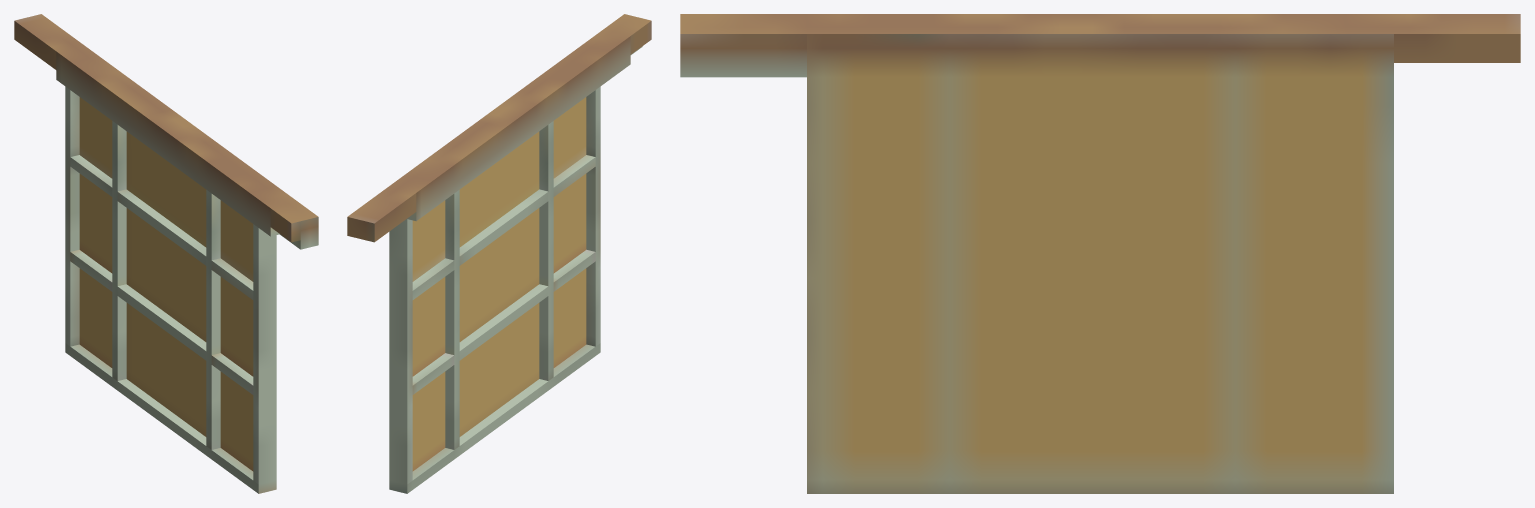
The model's file is WindowFrameLargeInside_A_01.fbx.
The picture shows the model from 3 angles, left to right: view 1: azimuth 30°, elevation 25°; view 2: azimuth 150°, elevation 25°; view 3: azimuth 270°, elevation 25°; orthographic projection. The views are drawn at different scales.
Parts seen in each view (by area): view 1: WindowFrameLargeInside_A_01; view 2: WindowFrameLargeInside_A_01; view 3: WindowFrameLargeInside_A_01.
Boxes of the visible parts, left/top/right/bottom form: WindowFrameLargeInside_A_01: left=14, top=14, right=318, bottom=493; WindowFrameLargeInside_A_01: left=347, top=14, right=651, bottom=493; WindowFrameLargeInside_A_01: left=680, top=14, right=1520, bottom=493.
Size of the model in its own units: 15 by 265 by 160.
1 material, 1 textured.
